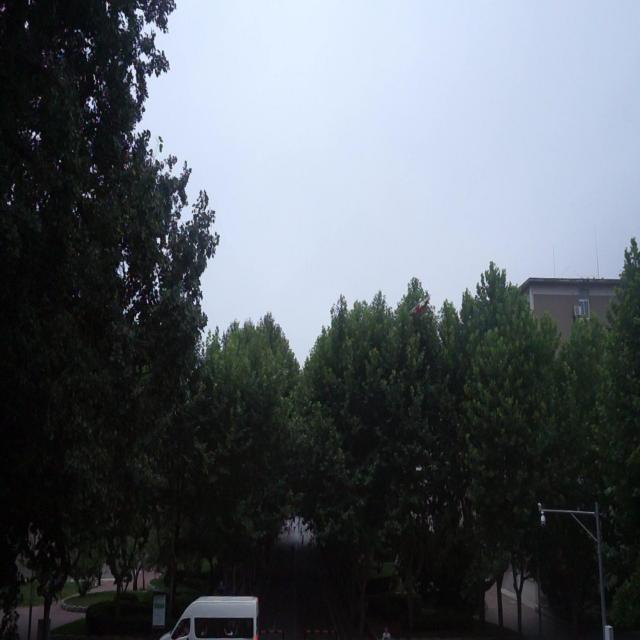UAV: (411, 294, 432, 320)
